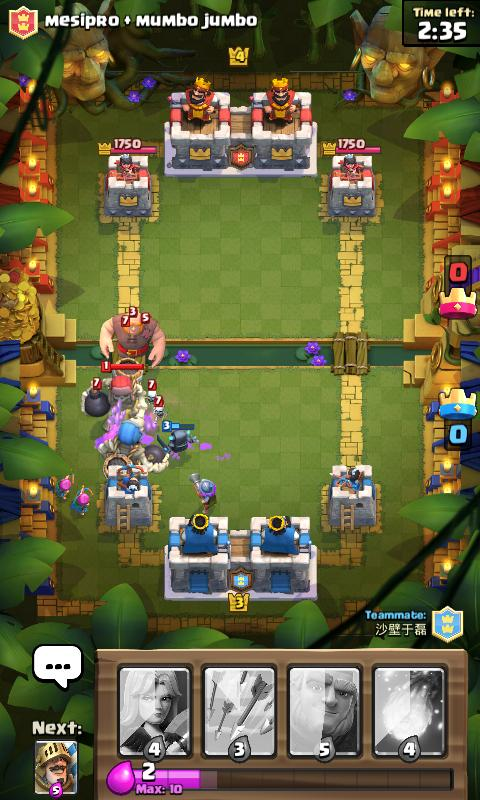ally_archer: (68, 483, 94, 517), (53, 466, 74, 502)
ally_giant_skeleton: (96, 419, 169, 480)
ally_mini_pekka: (155, 419, 195, 452)
ally_musketeer: (187, 471, 218, 514)
enemy_giant: (97, 305, 165, 371)
enemy_giant_skeleton: (79, 359, 147, 430)
enemy_skeleton: (152, 393, 164, 420), (145, 378, 156, 404)
